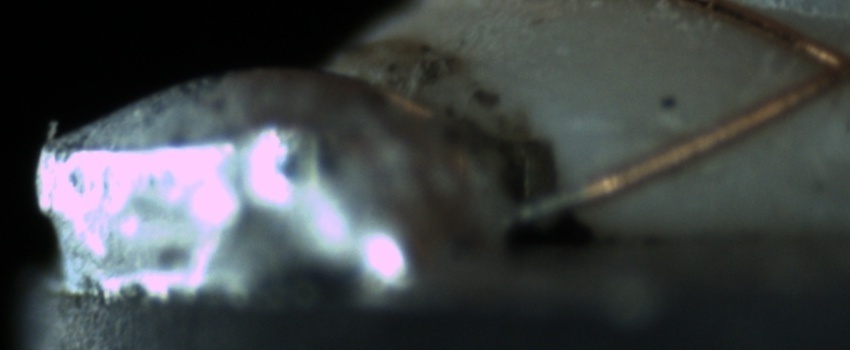CL: (777, 32, 850, 108)
DL: (567, 99, 704, 160)
TS: (511, 182, 582, 227)
